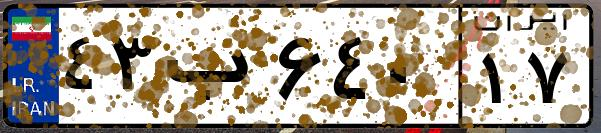0: (385, 28, 445, 110)
1: (475, 38, 525, 113)
3: (110, 28, 158, 98)
4: (330, 28, 385, 110), (57, 26, 110, 100)
6: (270, 28, 330, 110)
7: (525, 38, 570, 115)
ب: (158, 20, 270, 120)
